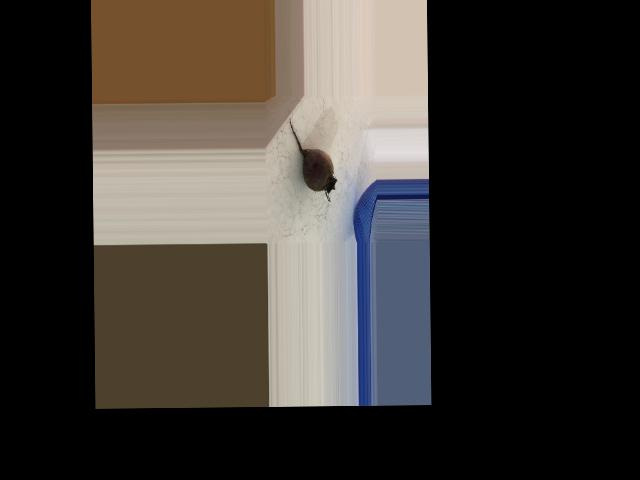beet: (288, 117, 336, 201)
